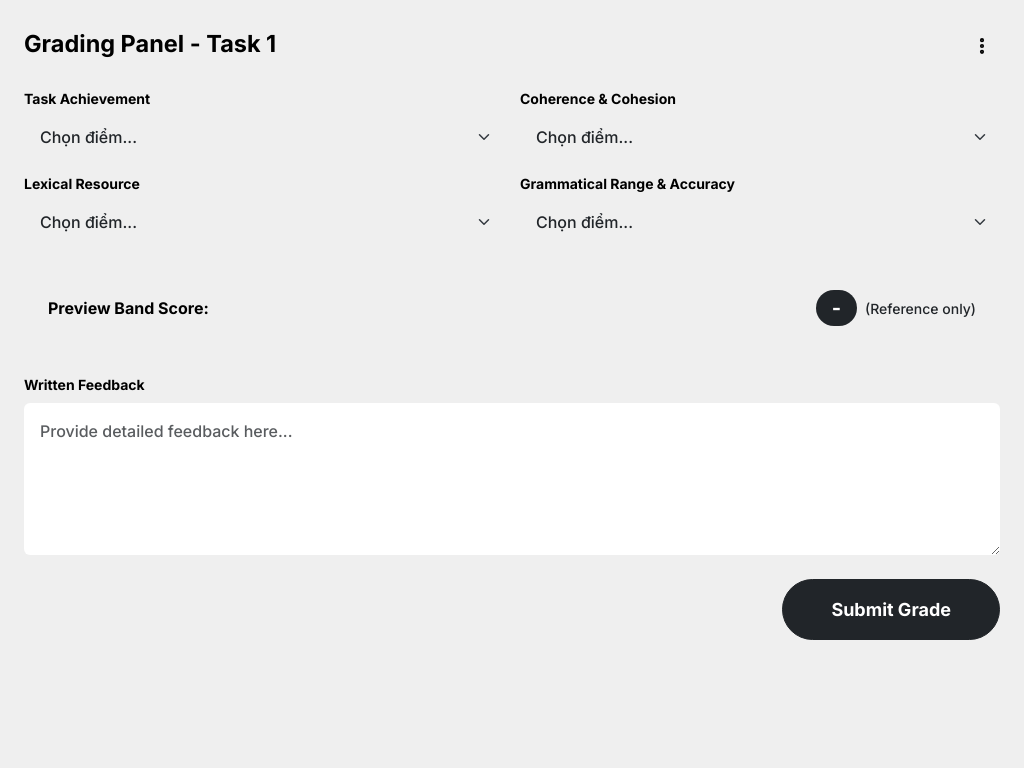
Test: TutorGradingPanel Component › Form Submission › shows a queue return button after completing tutor grading
Select "7.0" in the dropdown with test id "input-taskAchievementScore" at (264, 137), box [24,117,504,157]
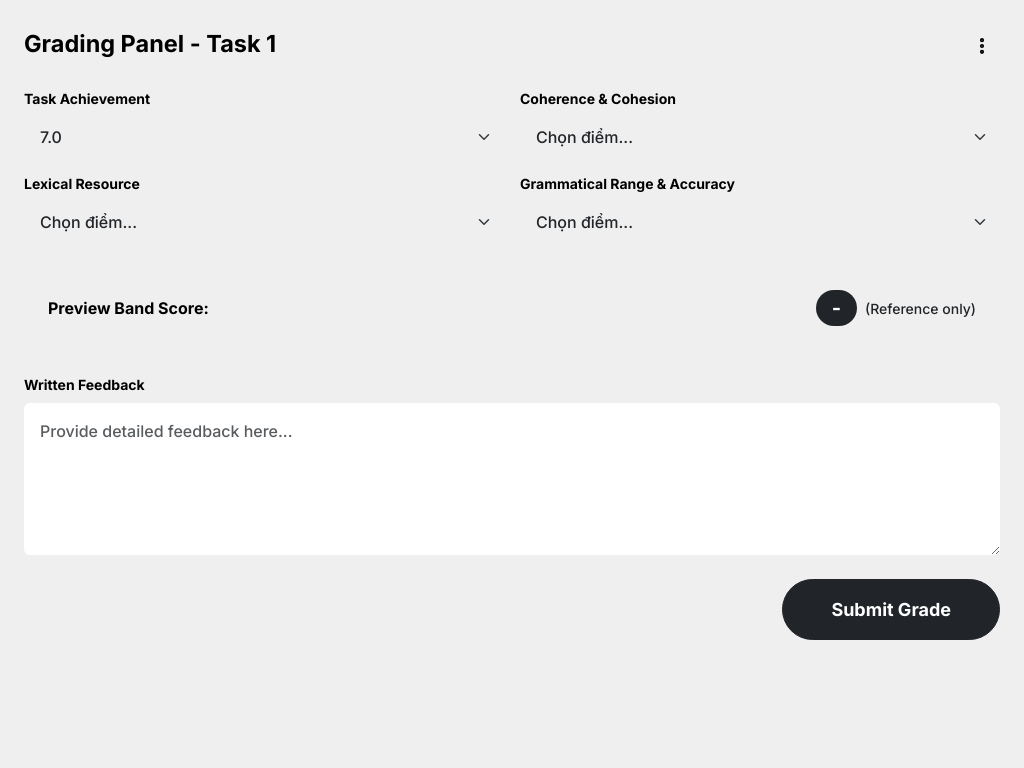
Select "7.0" in the dropdown with test id "input-coherenceScore" at (760, 137), box [520,117,1000,157]
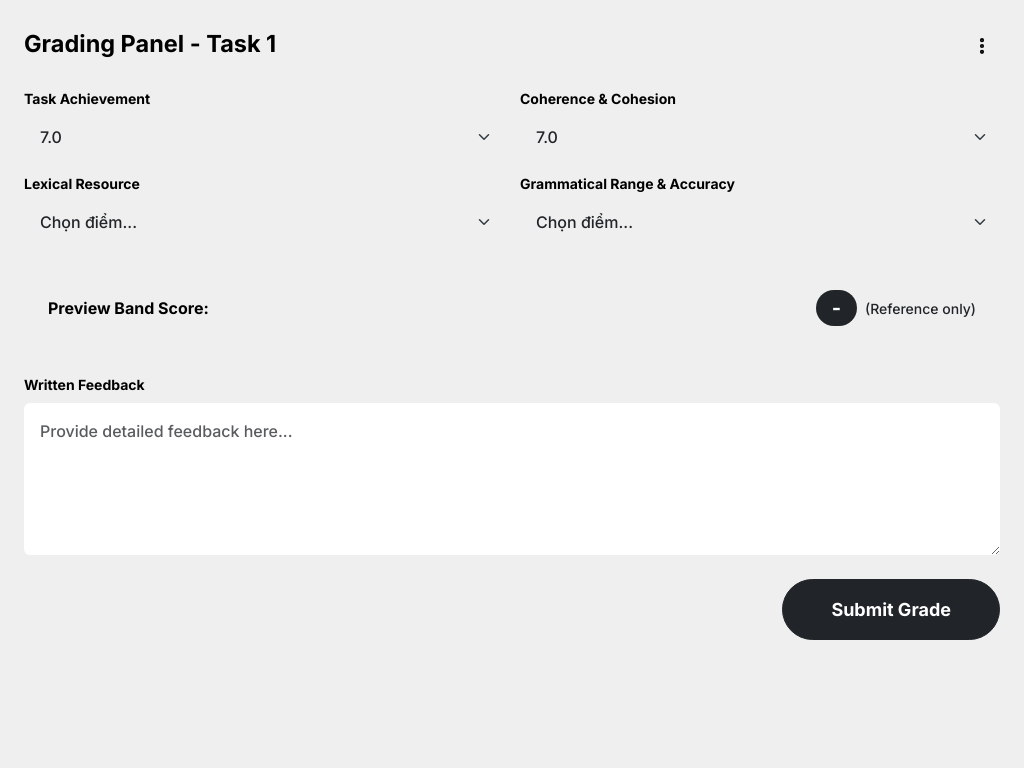
Select "7.0" in the dropdown with test id "input-lexicalScore" at (264, 222), box [24,202,504,242]
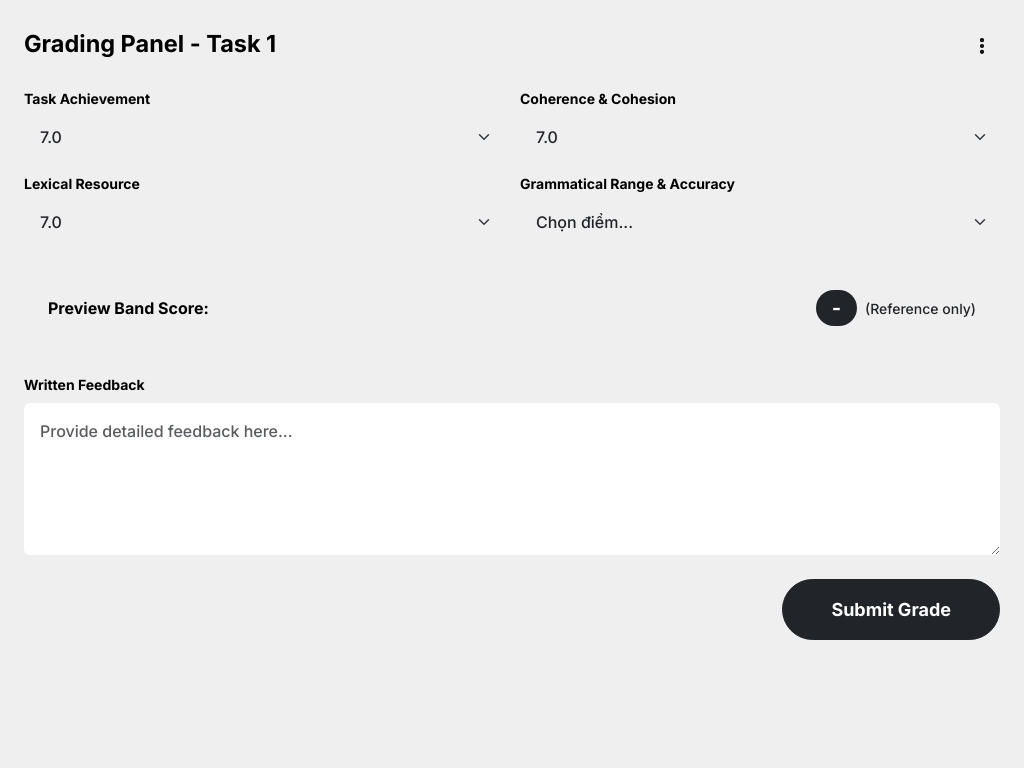
Select "7.0" in the dropdown with test id "input-grammarScore" at (760, 222), box [520,202,1000,242]
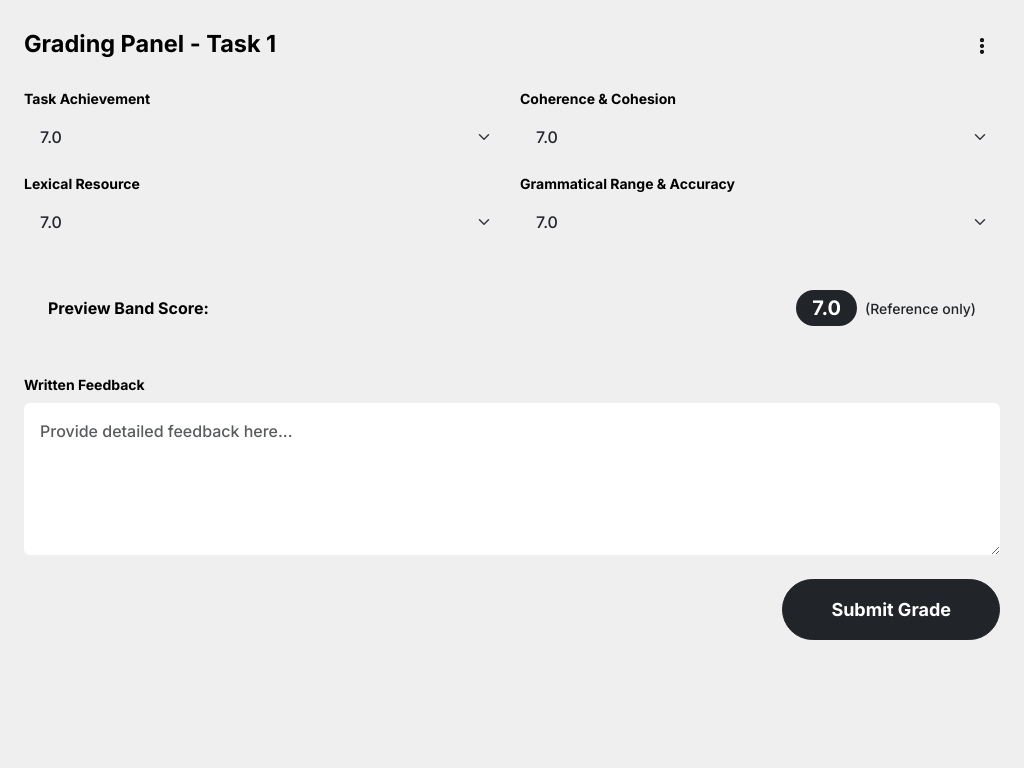
Type "Completed." into the text box with test id "textarea-feedback" at (512, 479), box [24,403,1000,555]
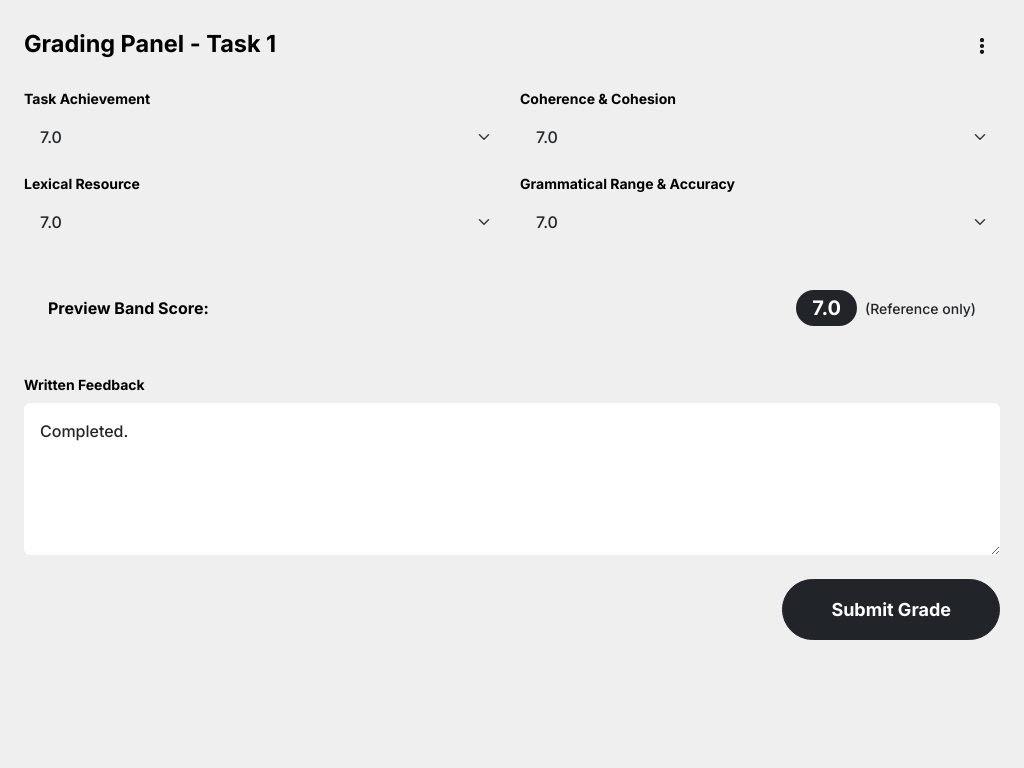
Click the button "Submit Grade" at (891, 610), box [782,579,1000,640]
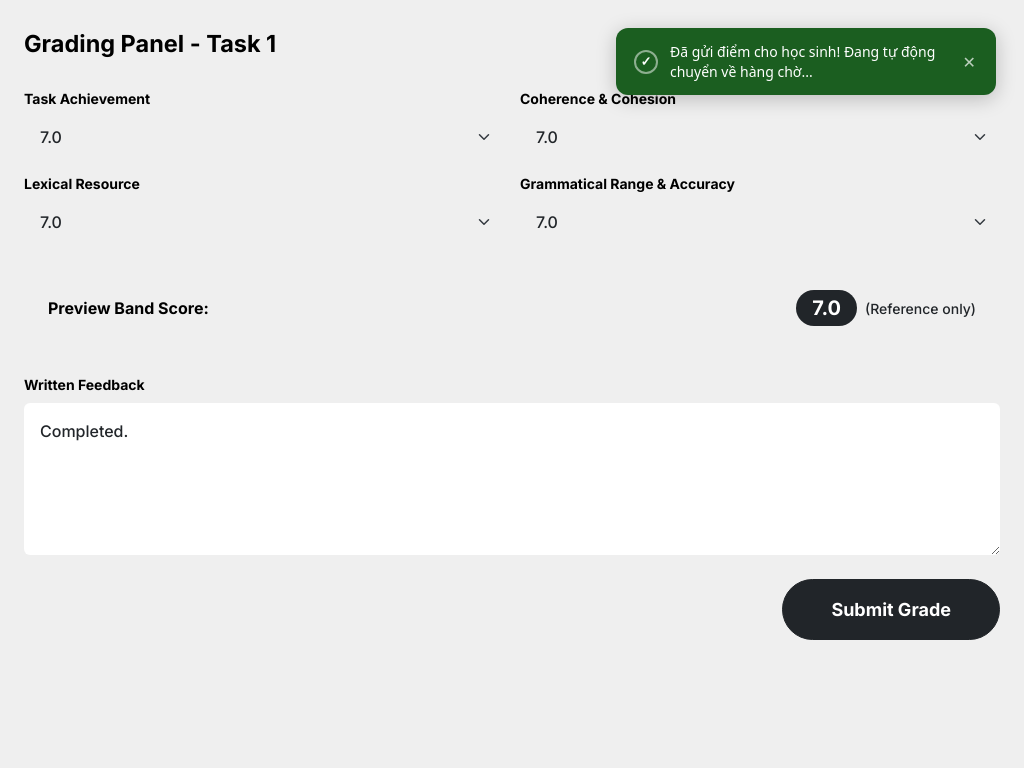
Now the text "Đã gửi điểm cho học sinh! Đang tự động chuyển về hàng chờ..." is shown, box [670,42,949,81]
